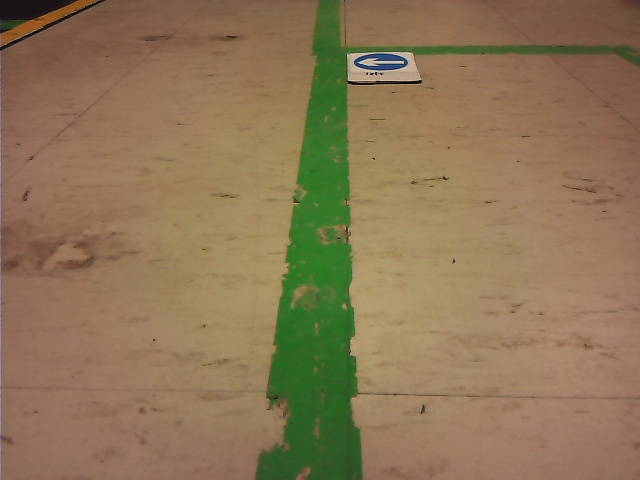TURN LEFT: (355, 54, 409, 70)
